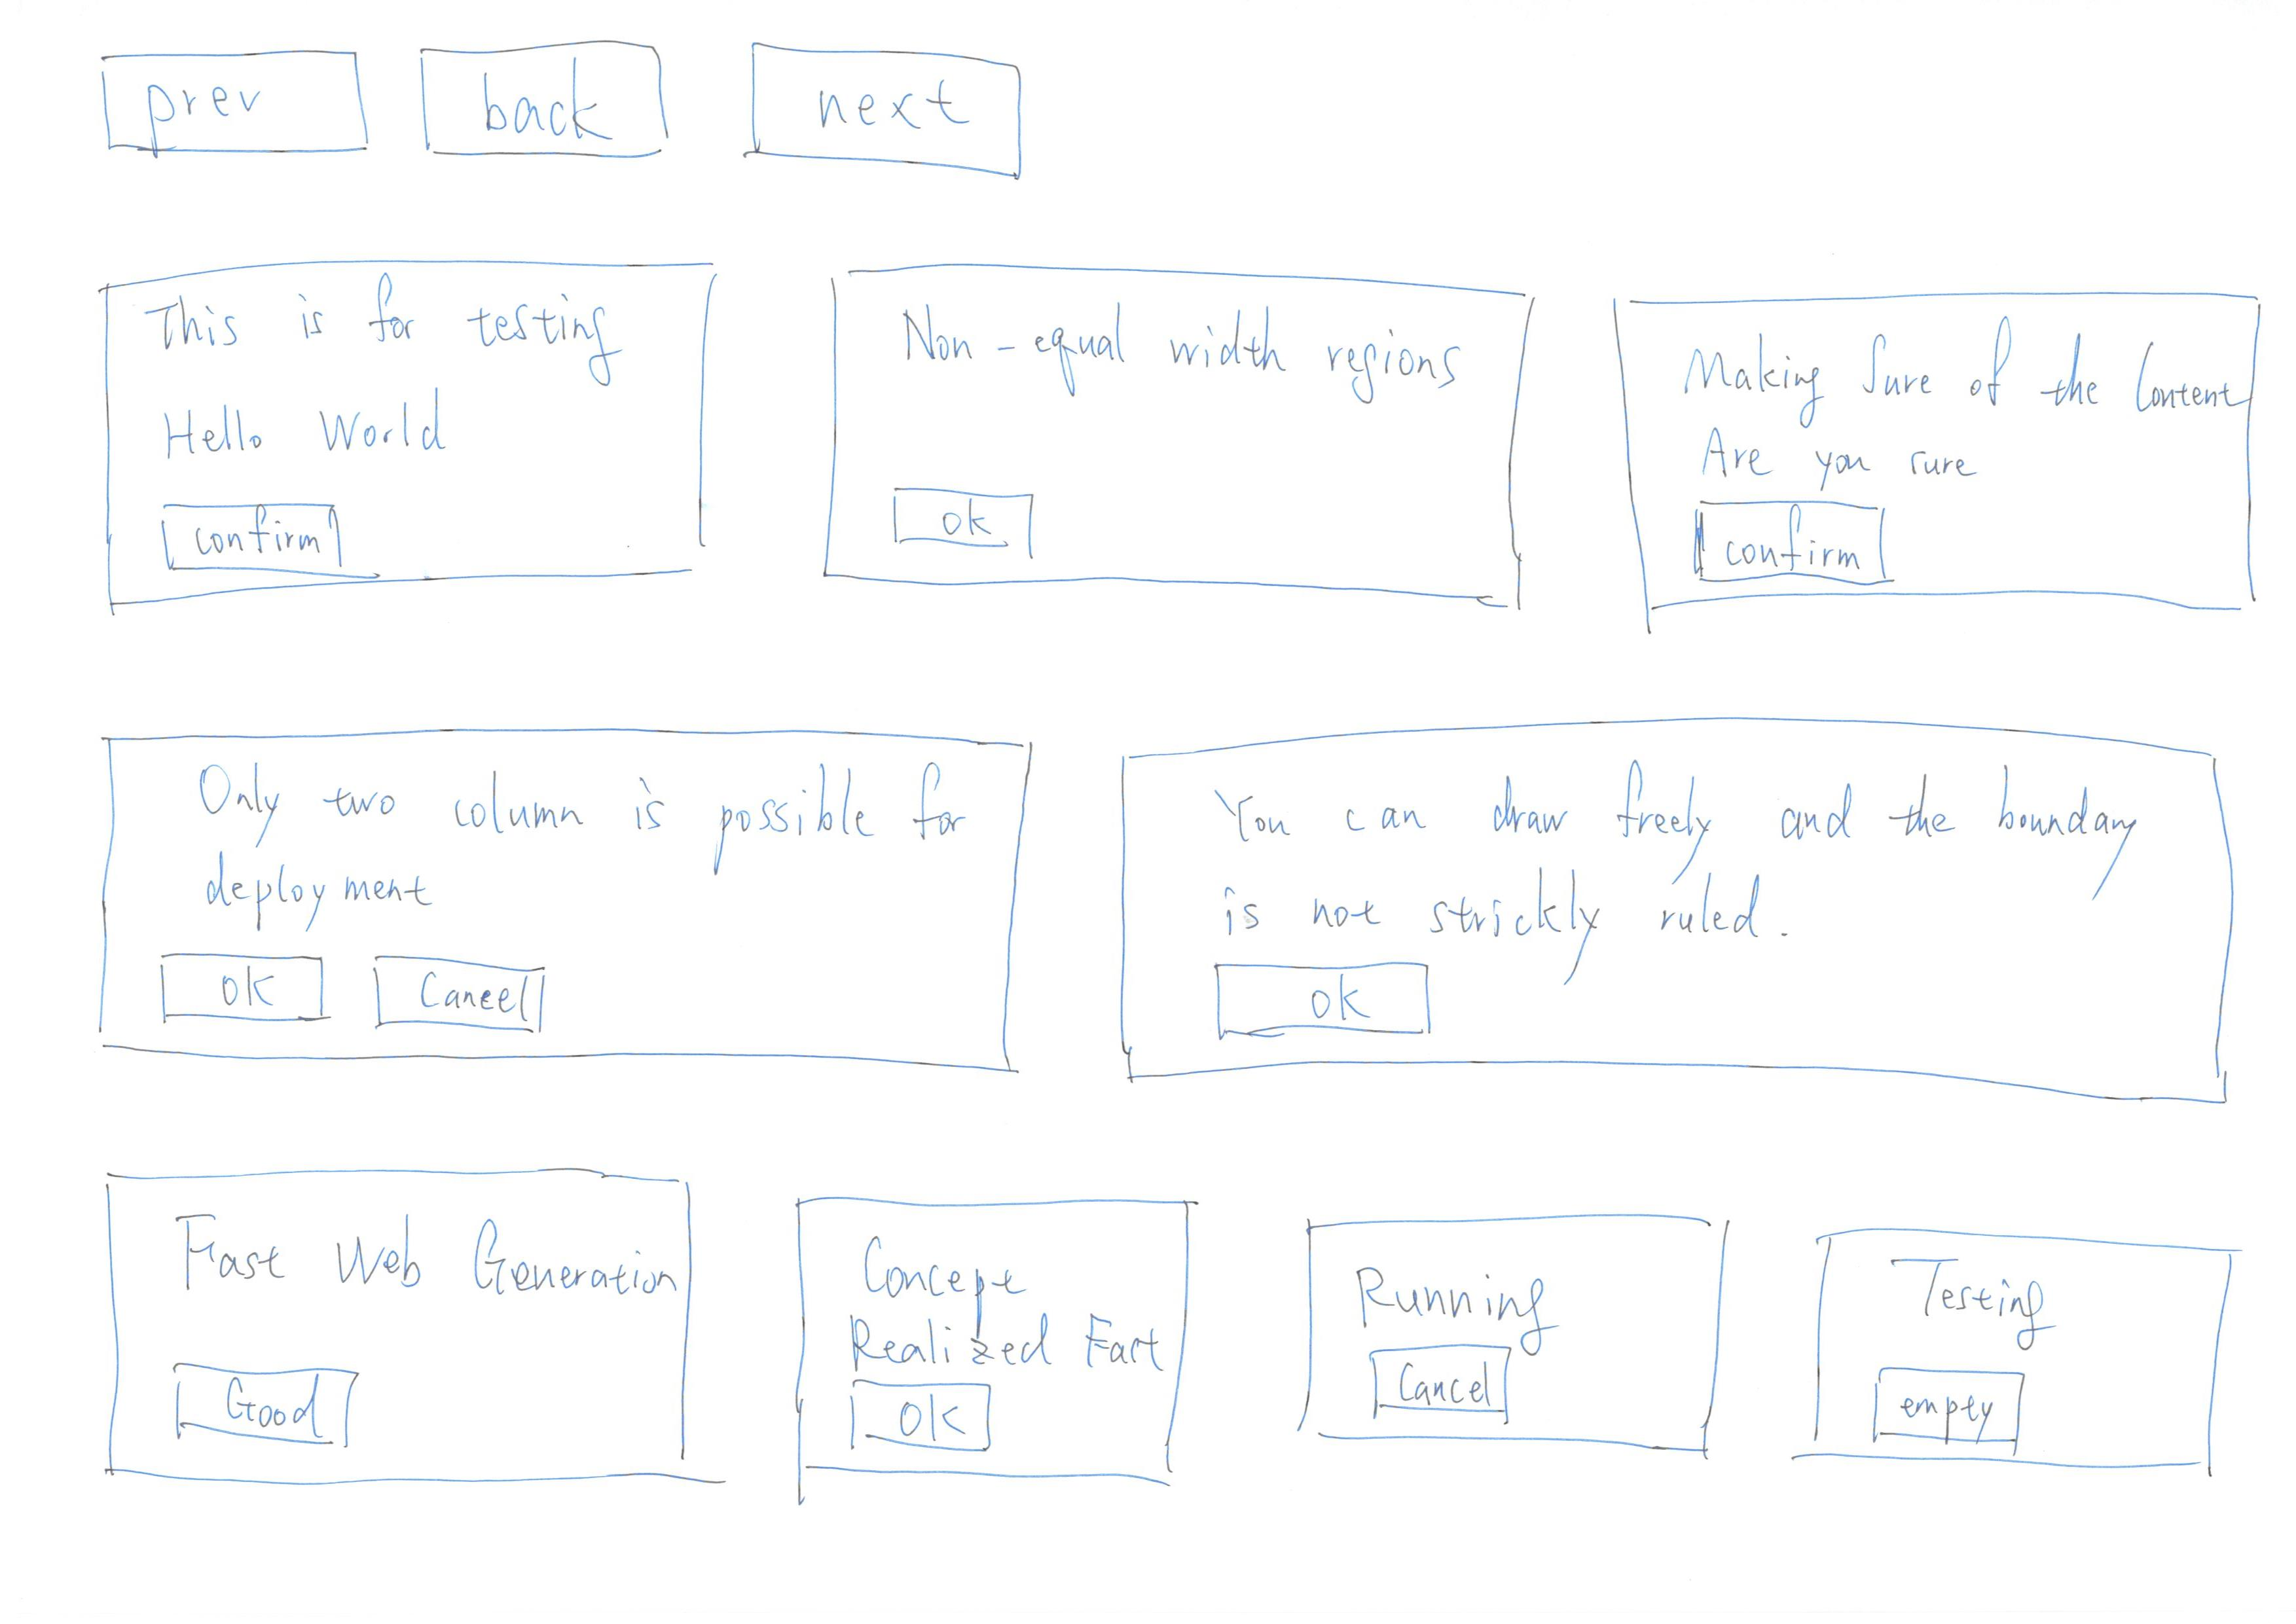btn-active: (389, 23, 687, 200), (81, 26, 389, 190), (1185, 933, 1457, 1069), (146, 1338, 401, 1475), (132, 469, 389, 584), (144, 923, 352, 1055), (825, 1367, 1034, 1478), (1855, 1355, 2066, 1464), (854, 473, 1064, 568)
cancel: (364, 914, 566, 1046), (1341, 1325, 1535, 1424)
double: (1079, 696, 2296, 1130), (42, 682, 1076, 1100)
next: (719, 40, 1057, 204)
quadruple: (796, 228, 1556, 652), (1565, 230, 2296, 668), (54, 227, 770, 634), (81, 1144, 733, 1548), (1273, 1127, 1753, 1555), (758, 1135, 1238, 1562), (1786, 1153, 2266, 1580)
row: (23, 221, 2296, 684), (23, 701, 2296, 1162), (23, 1160, 2296, 1620), (23, 2, 2294, 223)
text: (1201, 749, 2141, 940), (188, 750, 977, 896), (144, 279, 650, 457), (893, 290, 1496, 420), (1681, 322, 2236, 462), (151, 1204, 670, 1311), (861, 1225, 1164, 1383), (1364, 1258, 1614, 1332), (1869, 1244, 2059, 1341)
